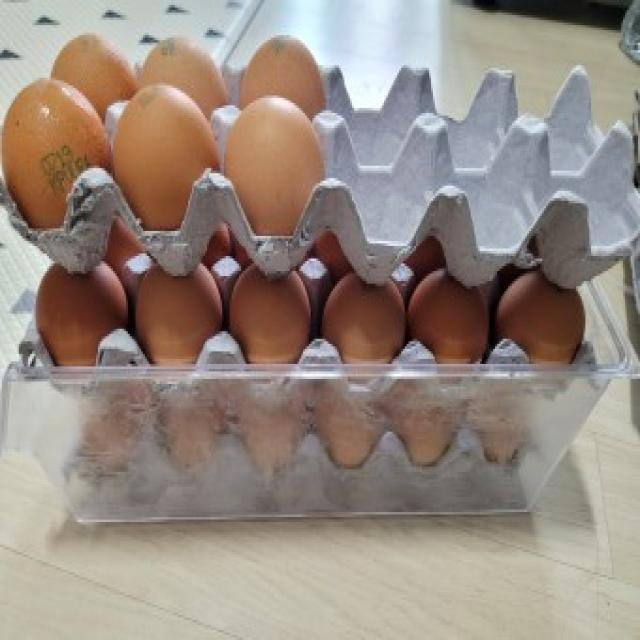eggs: (0, 75, 122, 223), (109, 84, 220, 235), (224, 91, 326, 238), (33, 257, 134, 369), (131, 253, 225, 366), (498, 263, 590, 375), (227, 257, 321, 360), (402, 266, 490, 364), (322, 268, 406, 370), (50, 34, 138, 119), (240, 34, 323, 120), (137, 28, 221, 106)
